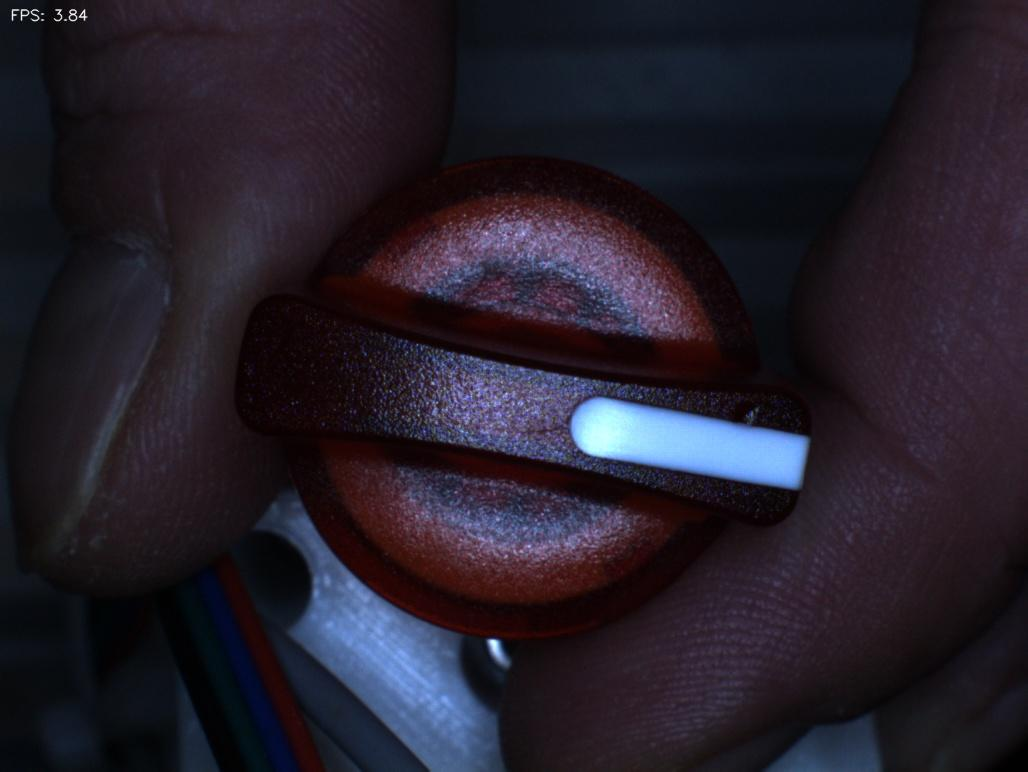Choc: (705, 373, 784, 462)
